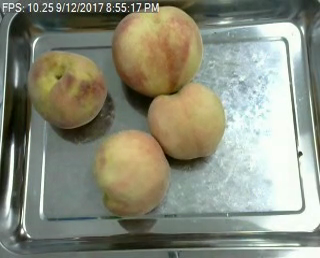Peach: (111, 4, 204, 96), (92, 129, 170, 217), (26, 49, 106, 128), (147, 82, 227, 160)
